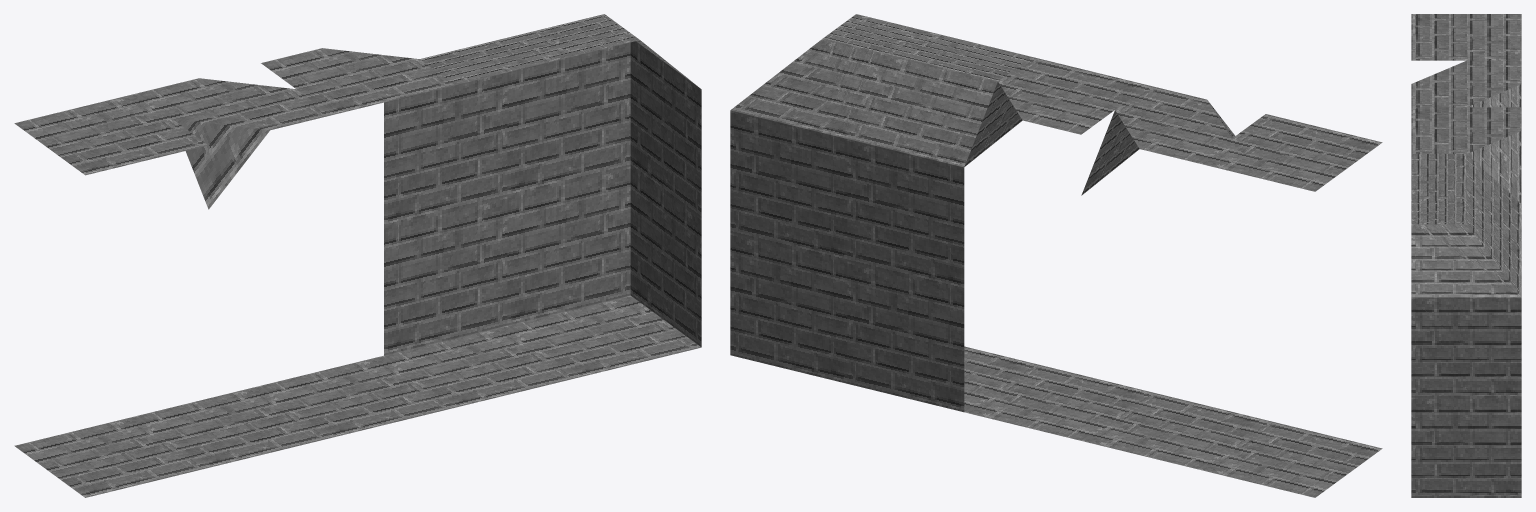
File: walls.glb
3 renders of one model, left to right at view 1: azimuth 30°, elevation 25°; view 2: azimuth 150°, elevation 25°; view 3: azimuth 270°, elevation 25°, orthographic. The views are drawn at different scales.
Visible parts, largest first — view 1: wall-inside-col, wall-col, wall-outside-double-col, floor-col, wall-outside-col; view 2: wall-col, wall-inside-col, wall-outside-col, floor-col, wall-outside-double-col; view 3: wall-inside-col, wall-outside-col, wall-col, floor-col, wall-outside-double-col.
Part boxes in pixels (x1=…): wall-inside-col: x1=507, y1=14, x2=701, y2=377; wall-col: x1=384, y1=29, x2=577, y2=407; wall-outside-double-col: x1=137, y1=78, x2=331, y2=467; floor-col: x1=14, y1=93, x2=208, y2=497; wall-outside-col: x1=261, y1=48, x2=454, y2=437; wall-col: x1=847, y1=28, x2=1031, y2=412; wall-inside-col: x1=730, y1=14, x2=914, y2=383; wall-outside-col: x1=964, y1=57, x2=1148, y2=440; floor-col: x1=1198, y1=114, x2=1382, y2=497; wall-outside-double-col: x1=1081, y1=85, x2=1265, y2=469; wall-inside-col: x1=1411, y1=201, x2=1521, y2=497; wall-outside-col: x1=1411, y1=107, x2=1521, y2=203; wall-col: x1=1411, y1=154, x2=1521, y2=250; floor-col: x1=1411, y1=14, x2=1521, y2=60; wall-outside-double-col: x1=1411, y1=60, x2=1521, y2=107.
Size of the model in its own units: 5 by 2.5 by 1.
Materials: 1 (1 with a texture image).
